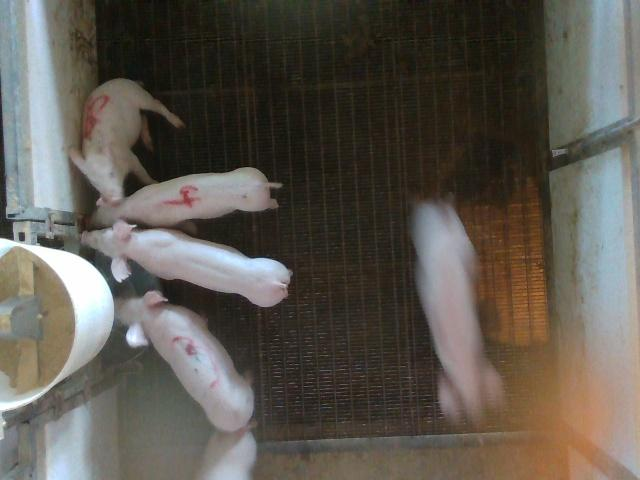pig-2: (411, 201, 504, 424)
pig-3: (115, 291, 251, 430)
pig-4: (90, 168, 281, 228)
pig-5: (69, 79, 184, 204)
